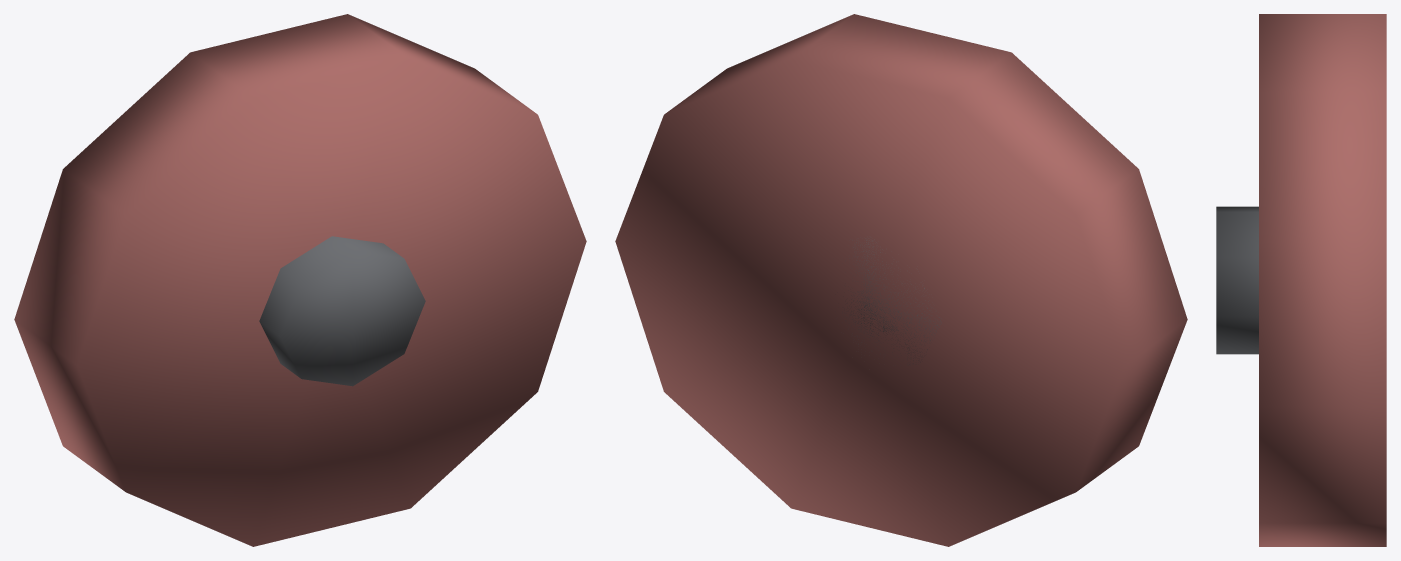
File: hose_reel_07.glb
The picture shows the model from 3 angles, left to right: view 1: azimuth 30°, elevation 25°; view 2: azimuth 150°, elevation 25°; view 3: azimuth 270°, elevation 25°; orthographic projection.
Parts seen in each view (by area): view 1: world; view 2: world; view 3: world.
Part boxes in pixels (<box>): world: <box>14,14,586,546</box>; world: <box>615,14,1187,546</box>; world: <box>1216,14,1386,546</box>.
Size of the model in its own units: 0.5824 by 0.49 by 0.1664.
